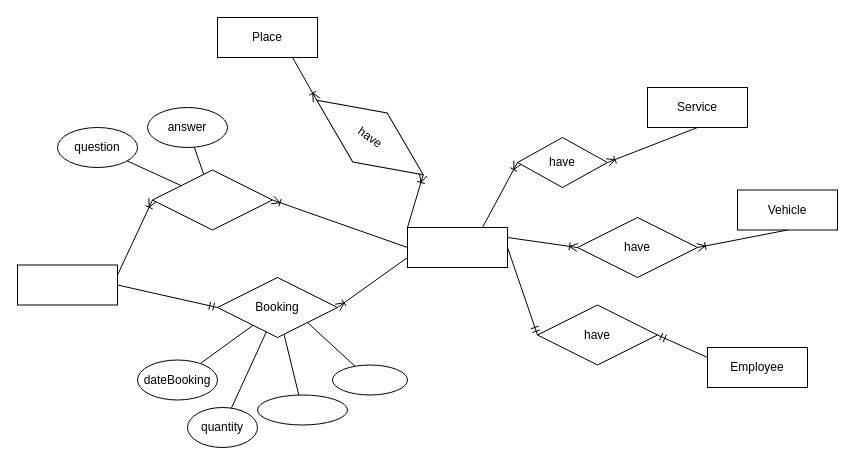
Some shapes in this 855 by 465 pixel diagram are drawn without their labels. The box of each missing label's shape, as (x1, y1, x2, y2) in pixels:
ask: (152, 169, 272, 230)
Customer: (16, 264, 118, 305)
judge: (332, 364, 408, 395)
totalPrice: (256, 394, 348, 425)
Tour: (406, 226, 508, 268)
